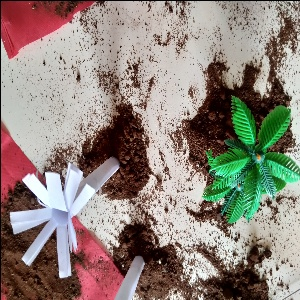plant: (191, 88, 300, 213)
weed: (7, 157, 111, 266)
